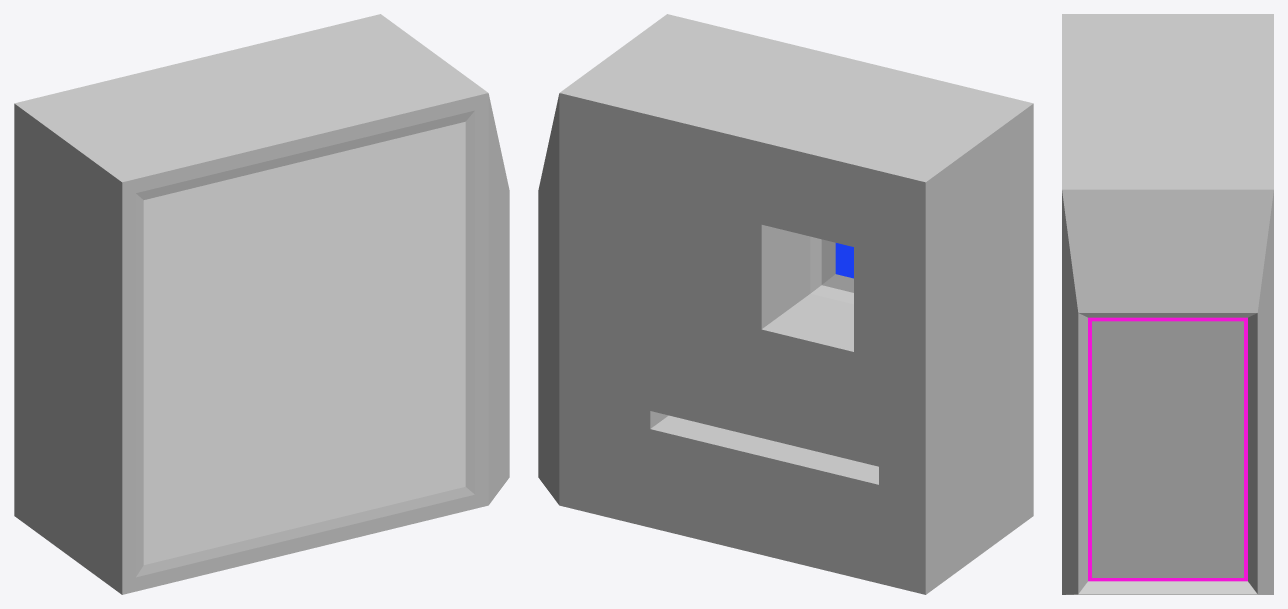
The model's file is system_unit.glb.
3 views of the same model, side by side, from view 1: azimuth 30°, elevation 25°; view 2: azimuth 150°, elevation 25°; view 3: azimuth 270°, elevation 25° (orthographic).
Visible parts, largest first — view 1: Cube.006; view 2: Cube.006; view 3: Cube.006.
Boxes of the visible parts, box(x1,y1,x2,y2) form: Cube.006: box(14, 14, 509, 594); Cube.006: box(538, 14, 1033, 594); Cube.006: box(1062, 14, 1273, 594).
Size of the model in its own units: 1.01 by 1 by 0.4749.
